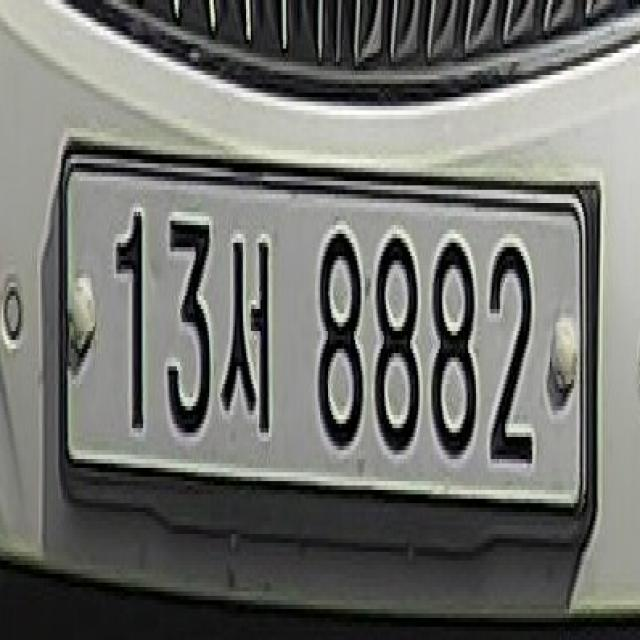1: (108, 186, 158, 450)
2: (481, 220, 545, 477)
3: (161, 199, 217, 450)
8: (312, 212, 368, 450), (426, 221, 479, 464), (371, 212, 423, 459)
license_plate: (58, 123, 601, 582)
seo: (217, 212, 288, 446)
